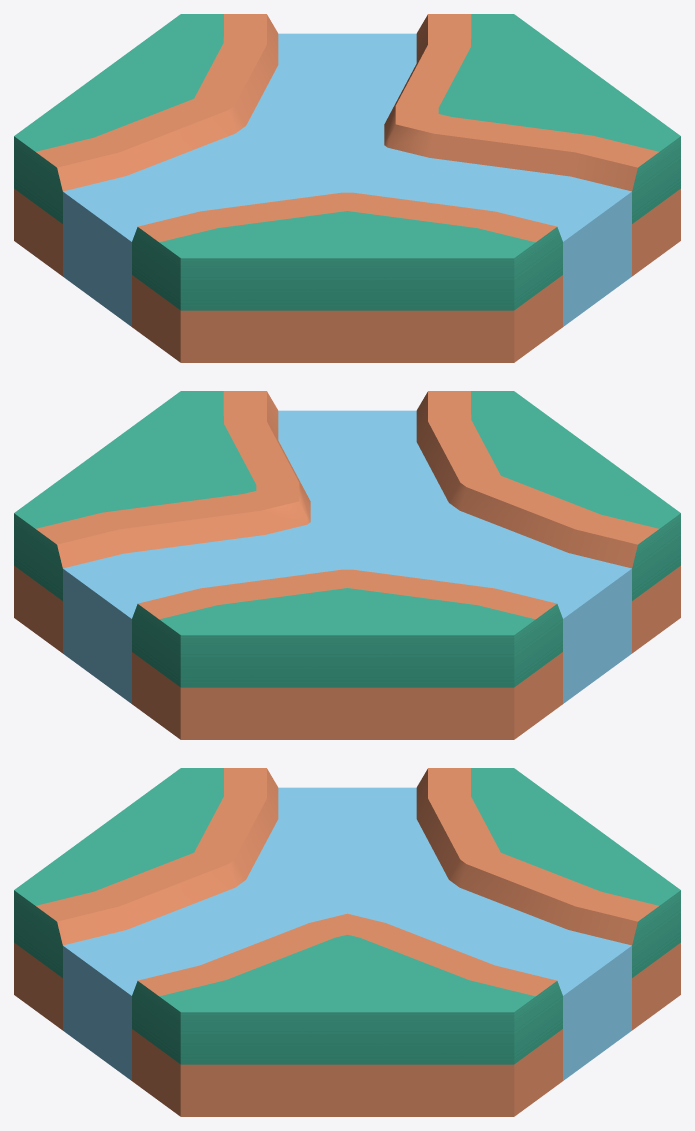
File: river-intersectionF.glb
The picture shows the model from 3 angles, top to bottom: view 1: azimuth 30°, elevation 25°; view 2: azimuth 150°, elevation 25°; view 3: azimuth 270°, elevation 25°; orthographic projection.
Visible parts, largest first — view 1: river-intersectionF; view 2: river-intersectionF; view 3: river-intersectionF.
Boxes of the visible parts, <box> form: river-intersectionF: <box>14,14,680,362</box>; river-intersectionF: <box>14,391,680,739</box>; river-intersectionF: <box>14,768,680,1116</box>.
Bounding box in the file's own units: 1 × 0.2 × 1.15.
Materials: 1 (1 with a texture image).
